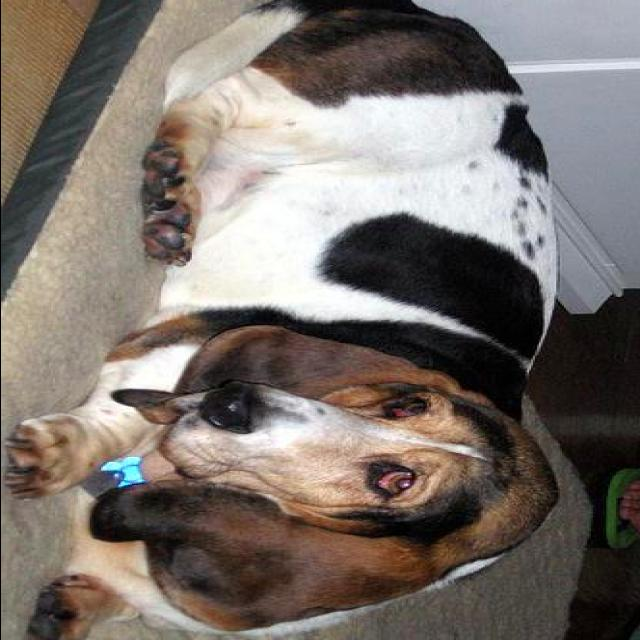basset: (2, 1, 565, 640)
